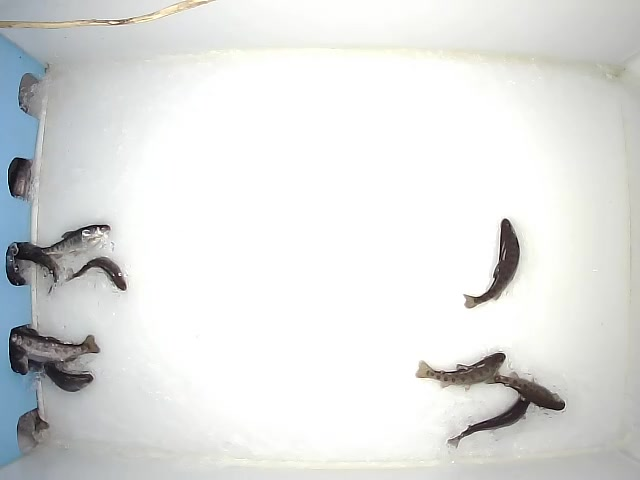fish: (444, 380, 538, 449), (460, 217, 521, 310), (414, 348, 507, 391), (488, 369, 566, 412), (9, 329, 100, 364), (31, 222, 111, 260), (60, 256, 128, 294), (36, 353, 94, 393)
